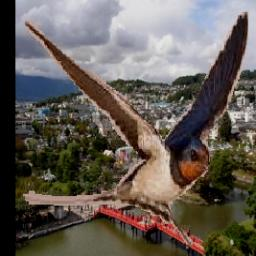Swallow: (24, 12, 249, 245)
